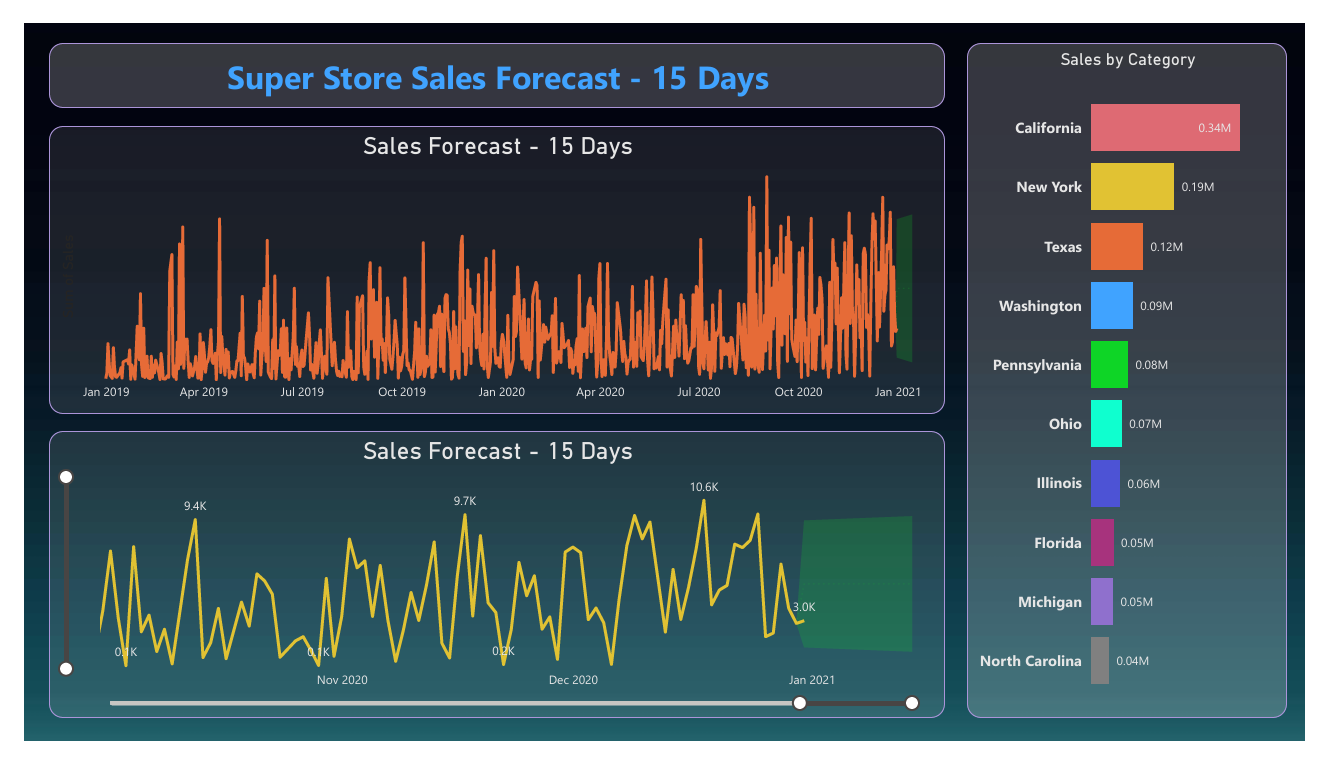

This screenshot's page, from the dashboard's own definition file:
{"tool":"powerbi","page":{"name":"Page 2","canvas":[1280,720],"ordinal":1},"visuals":[{"type":"lineChart","title":"Sales Forecast - 15 Days","fields":{"Y":["Sum(SuperStore_Sales_Dataset.Sales)"],"Category":["SuperStore_Sales_Dataset.Order Date"]},"box":[25,102.5,896.2,288.8],"z":0},{"type":"lineChart","title":"Sales Forecast - 15 Days","fields":{"Y":["Sum(SuperStore_Sales_Dataset.Sales)"],"Category":["SuperStore_Sales_Dataset.Order Date"]},"box":[25,407.5,896.2,287.5],"z":1000},{"type":"textbox","box":[25,20,896.2,65],"z":2000},{"type":"clusteredBarChart","title":" Sales by Category","fields":{"Y":["Sum(SuperStore_Sales_Dataset.Sales)"],"Category":["SuperStore_Sales_Dataset.State"]},"box":[942.5,20,320,675],"z":3000}]}

Visuals, with their boxes in screenshot pixels (x1, y1, x2, y2), scaled from the page's 1280x720 canvas onto the 1325x764 screenshot:
"Sales Forecast - 15 Days" lineChart: (26,109,954,415)
"Sales Forecast - 15 Days" lineChart: (26,432,954,737)
textbox: (26,21,954,90)
" Sales by Category" clusteredBarChart: (976,21,1307,737)
